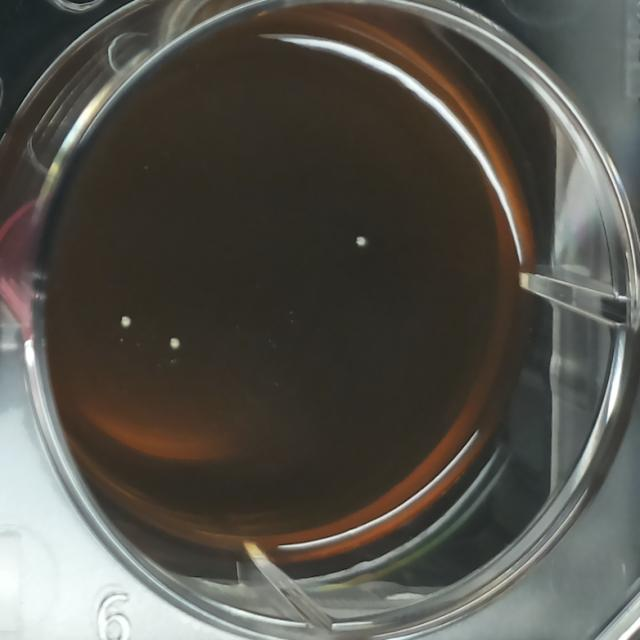Staphylococcus: (166, 332, 184, 353), (352, 231, 368, 251), (118, 312, 134, 330)
